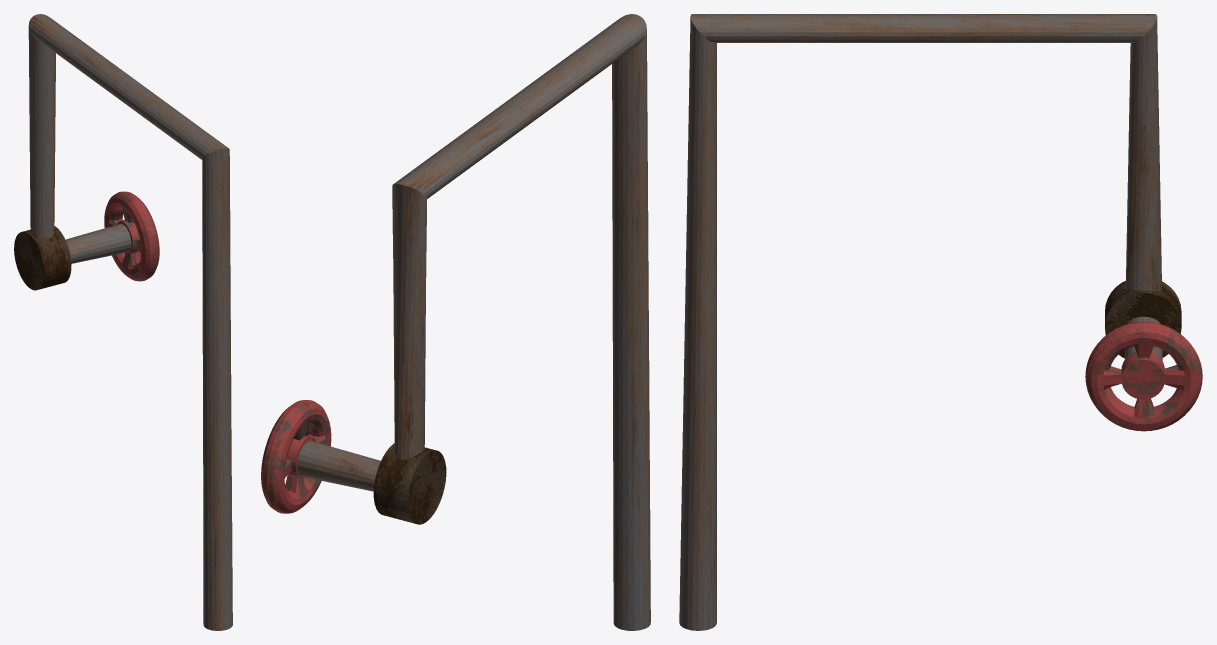
Rendered from Tubulacao1.fbx.
The picture shows the model from 3 angles, left to right: view 1: azimuth 30°, elevation 25°; view 2: azimuth 150°, elevation 25°; view 3: azimuth 270°, elevation 25°; orthographic projection. The views are drawn at different scales.
Parts seen in each view (by area): view 1: Cube, Torus, Cylinder; view 2: Cube, Torus, Cylinder; view 3: Cube, Torus, Cylinder, Cylinder.001.
Part boxes in pixels (left/top/right/bottom): Cube: left=28, top=14, right=232, bottom=630; Torus: left=104, top=191, right=159, bottom=281; Cylinder: left=14, top=226, right=71, bottom=290; Cube: left=297, top=14, right=650, bottom=630; Torus: left=261, top=400, right=331, bottom=513; Cylinder: left=373, top=443, right=446, bottom=524; Cube: left=679, top=14, right=1162, bottom=630; Torus: left=1085, top=321, right=1202, bottom=431; Cylinder: left=1105, top=281, right=1181, bottom=358; Cylinder.001: left=1121, top=352, right=1164, bottom=399.
Bounding box in the file's own units: 150 × 606 × 474.
Materials: 3 (3 with a texture image).
